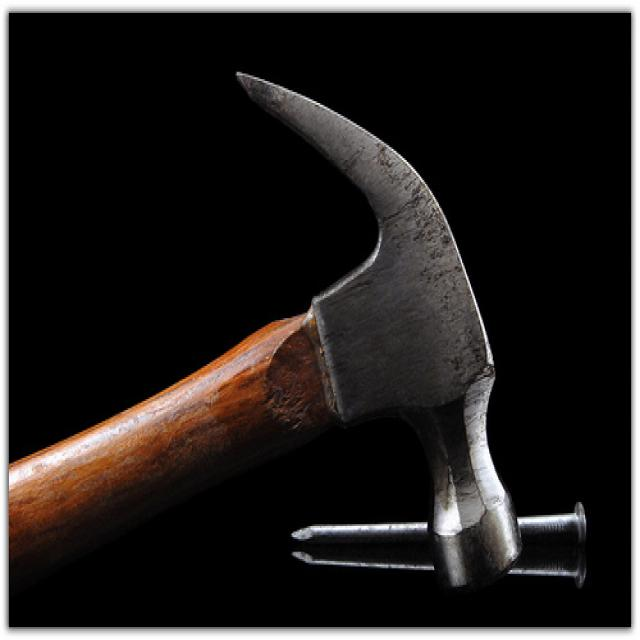hammer: (9, 36, 522, 601)
